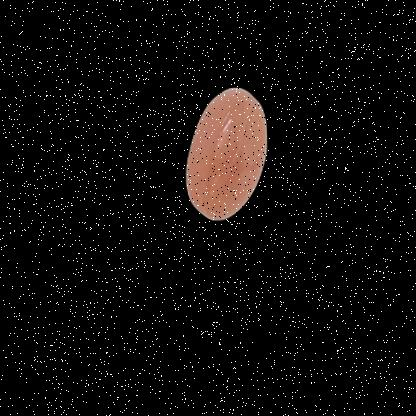opiqutan: (151, 78, 279, 253)
